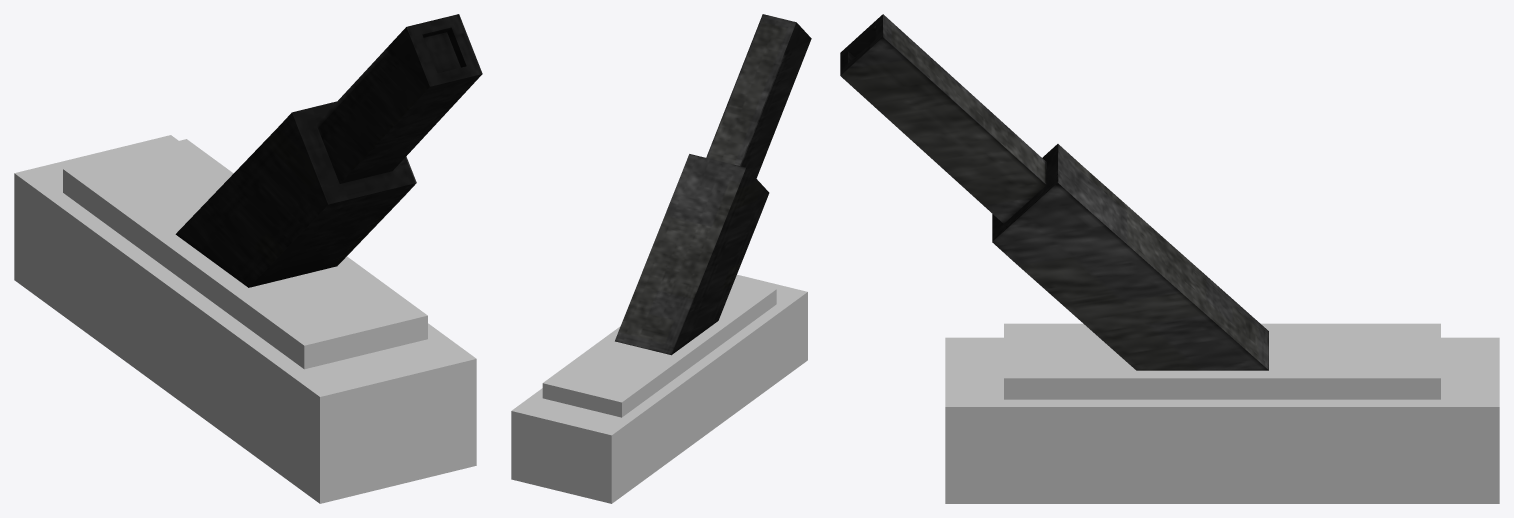
File: Switch.fbx
The picture shows the model from 3 angles, left to right: view 1: azimuth 30°, elevation 25°; view 2: azimuth 150°, elevation 25°; view 3: azimuth 270°, elevation 25°; orthographic projection. The views are drawn at different scales.
Visible parts, largest first — view 1: Cube; view 2: Cube; view 3: Cube.
Boxes of the visible parts, box(x1,y1,x2,y2) form: Cube: box(14, 14, 482, 503); Cube: box(511, 14, 811, 503); Cube: box(840, 14, 1499, 503).
Bounding box in the file's own units: 53.68 × 160 × 216.
